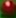brown: (0, 0, 16, 18)
